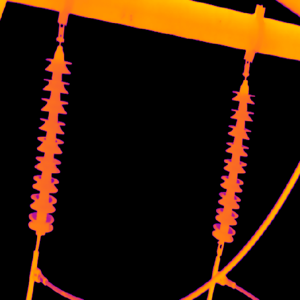insulator: (25, 41, 73, 236), (210, 77, 255, 251)
